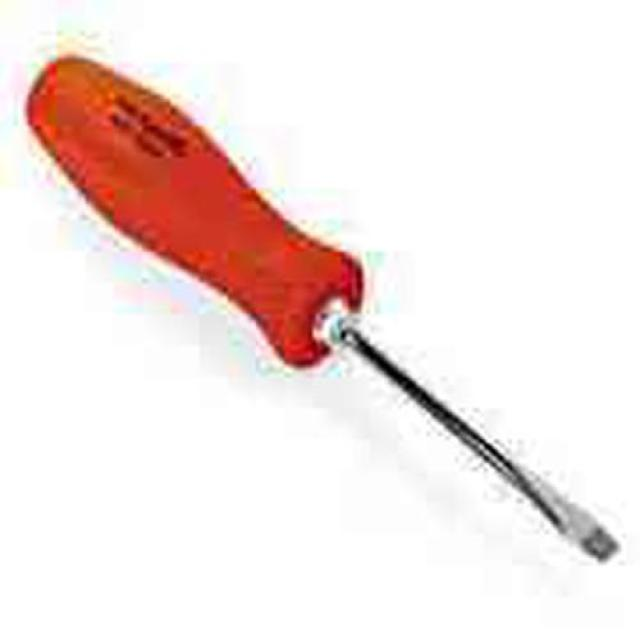screw driver: (13, 24, 632, 591)
